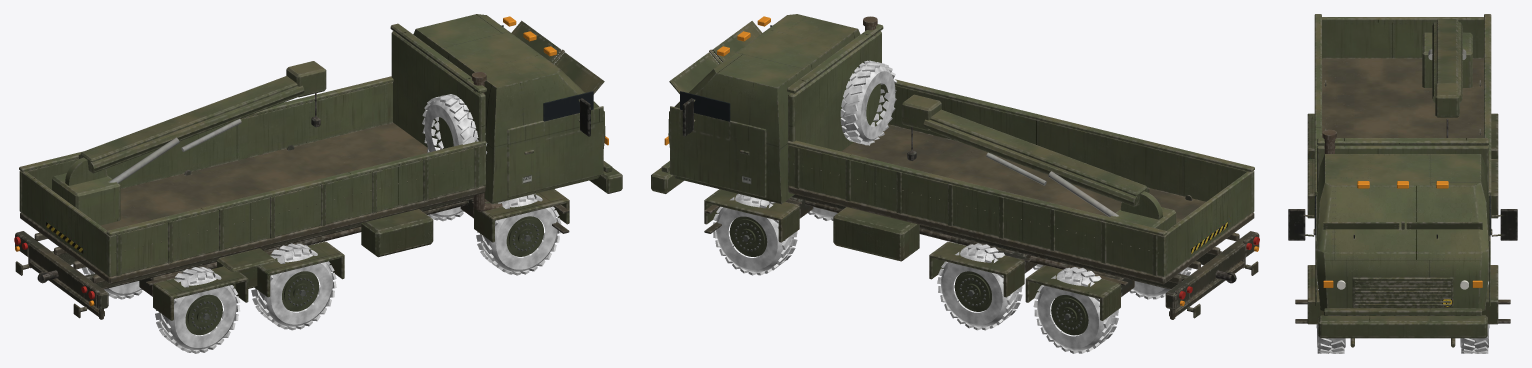
3 views of the same model, side by side, from view 1: azimuth 30°, elevation 25°; view 2: azimuth 150°, elevation 25°; view 3: azimuth 270°, elevation 25° (orthographic). The views are drawn at different scales.
Parts seen in each view (by area): view 1: body, cab, chassis, tyres, rims, wheel_bolts; view 2: body, cab, chassis, tyres, rims, wheel_bolts; view 3: cab, body, chassis, tyres.
Part boxes in pixels (x1,y1,x2,y2): body: (19,23,486,284); cab: (413,14,622,203); chassis: (14,72,569,320); tyres: (81,94,561,353); rims: (185,216,543,335); wheel_bolts: (191,223,539,329); body: (787,24,1254,284); cab: (651,14,860,204); chassis: (704,16,1259,320); tyres: (713,60,1191,353); rims: (729,216,1088,335); wheel_bolts: (734,223,1082,329); cab: (1288,154,1517,347); body: (1314,14,1491,228); chassis: (1295,113,1510,324); tyres: (1317,281,1488,353).
Size of the model in its own units: 8.55 by 3.05 by 3.2.
6 materials, 6 textured.
